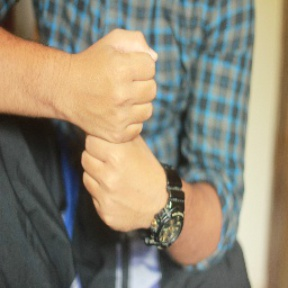G: (70, 26, 177, 235)
